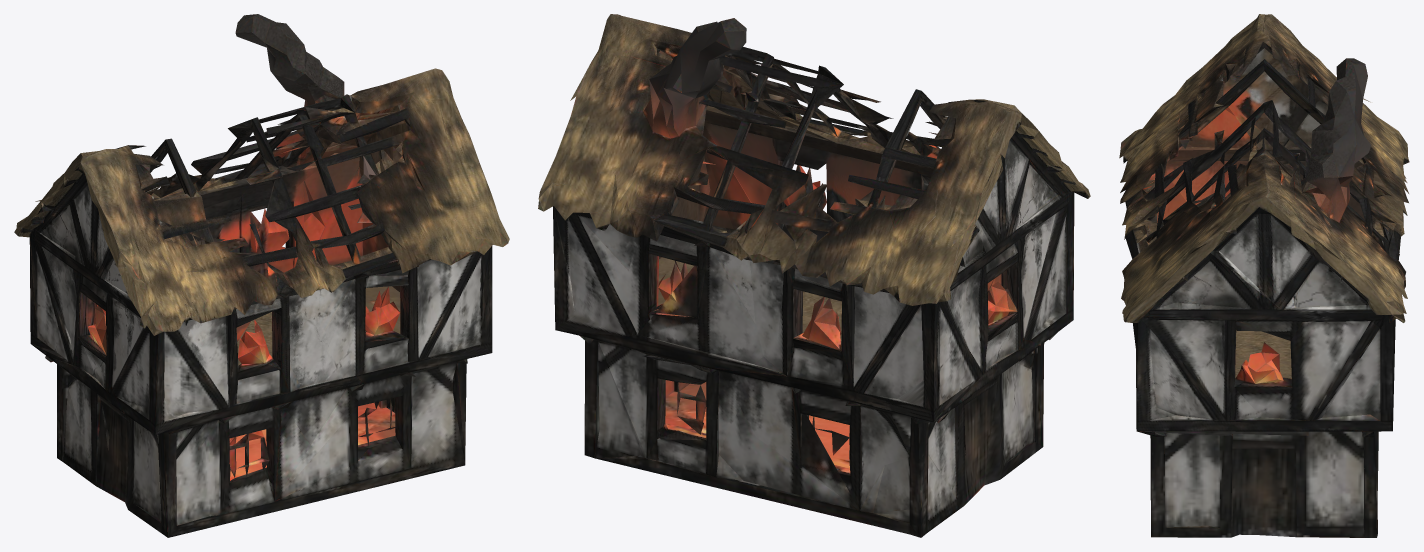
The model's file is prop-house-a.glb.
The picture shows the model from 3 angles, left to right: view 1: azimuth 30°, elevation 25°; view 2: azimuth 150°, elevation 25°; view 3: azimuth 270°, elevation 25°; orthographic projection. The views are drawn at different scales.
Size of the model in its own units: 1.79 by 1.9 by 1.19.
Materials: 1 (1 with a texture image).
